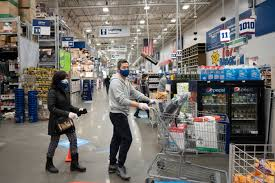Caution: (43, 57, 148, 180)
